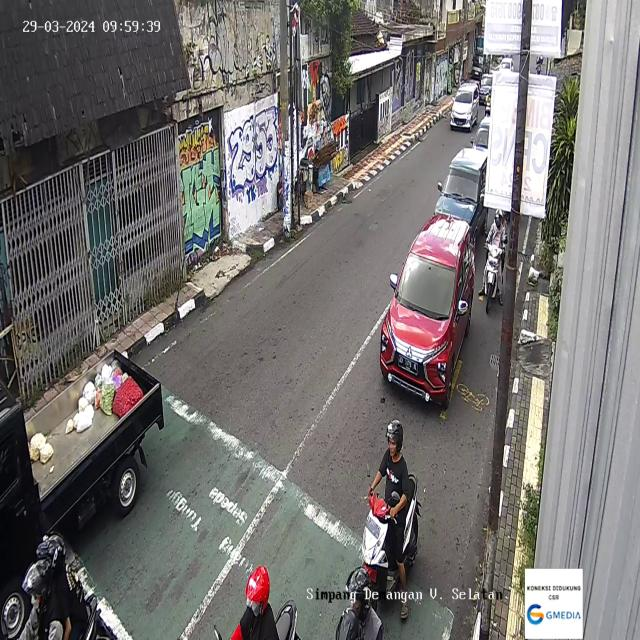car: (379, 212, 476, 410), (434, 147, 489, 241), (450, 81, 480, 131), (471, 117, 490, 150), (479, 72, 492, 103), (498, 56, 514, 72)
motorcycle: (6, 526, 112, 640), (359, 422, 418, 618), (214, 562, 300, 640), (479, 209, 507, 315), (485, 87, 492, 118)
truck: (0, 330, 164, 640)
